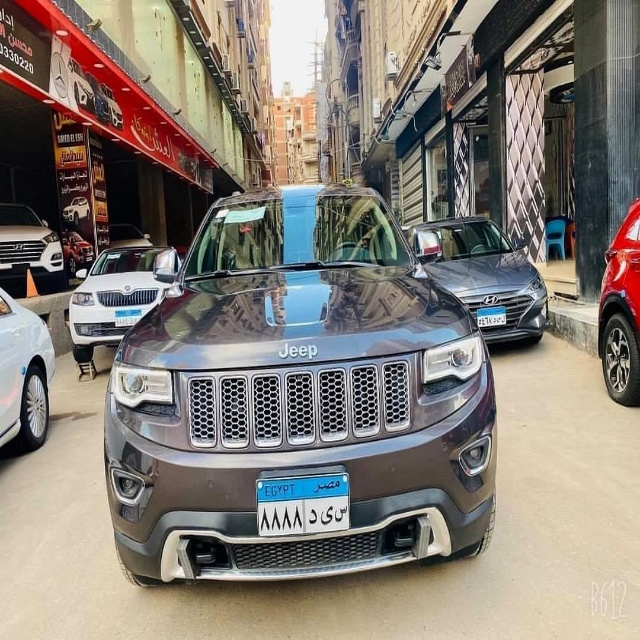License Plate: (254, 468, 353, 542)
